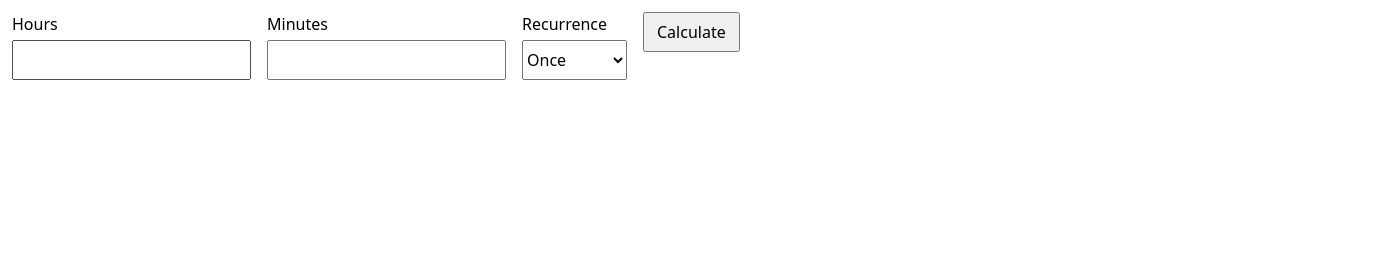
Test case: DurationCalculator › handles hours and minutes together
The image size is (1378, 280).
Step 1. Clear the field labelled "Hours" → x=132, y=60, box [12, 40, 251, 80]
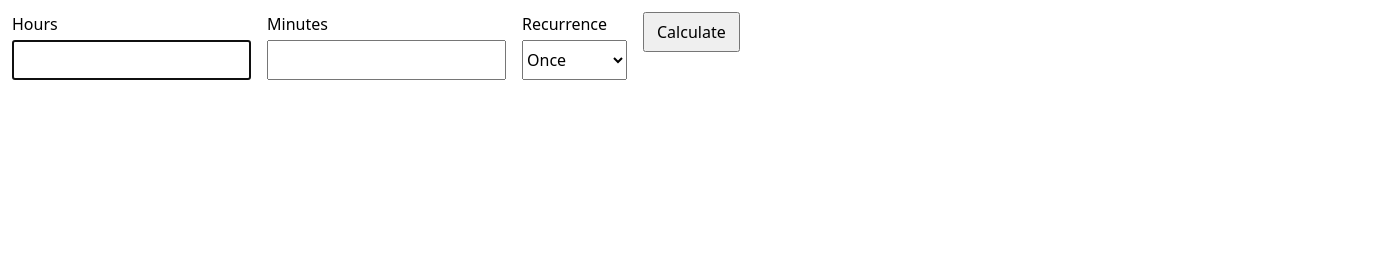
Step 2. Clear the field labelled "Minutes" → x=386, y=60, box [267, 40, 506, 80]
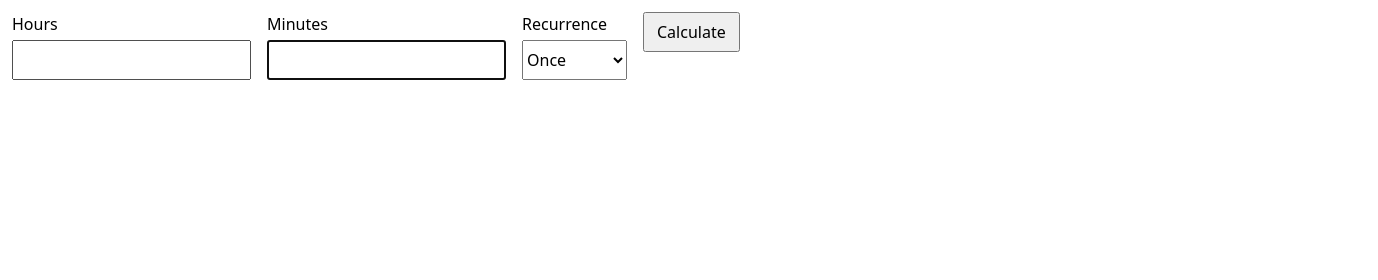
Step 3. Type "1" into the field labelled "Hours" → x=132, y=60, box [12, 40, 251, 80]
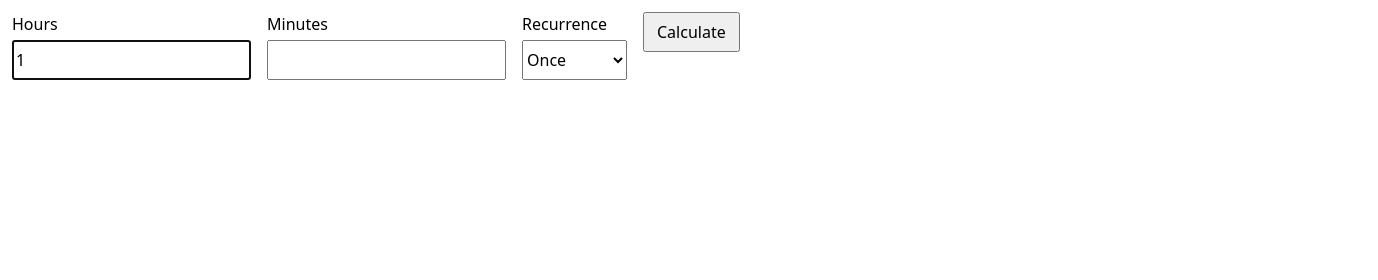
Step 4. Type "30" into the field labelled "Minutes" → x=386, y=60, box [267, 40, 506, 80]
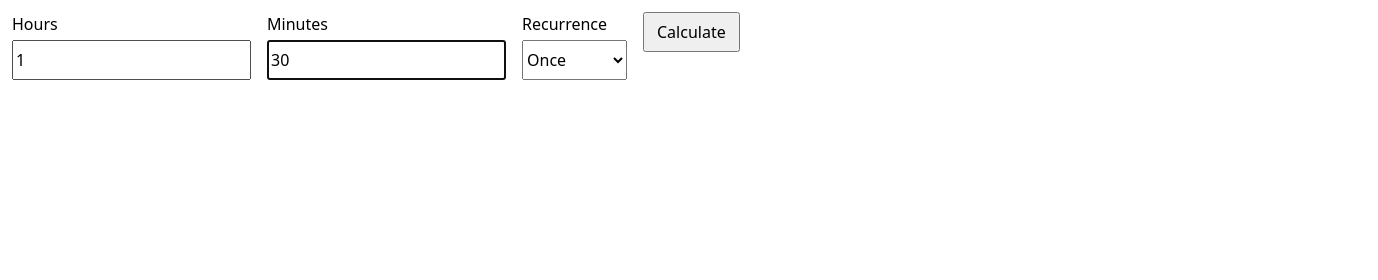
Step 5. Click the button "Calculate" → x=691, y=32, box [643, 12, 740, 52]
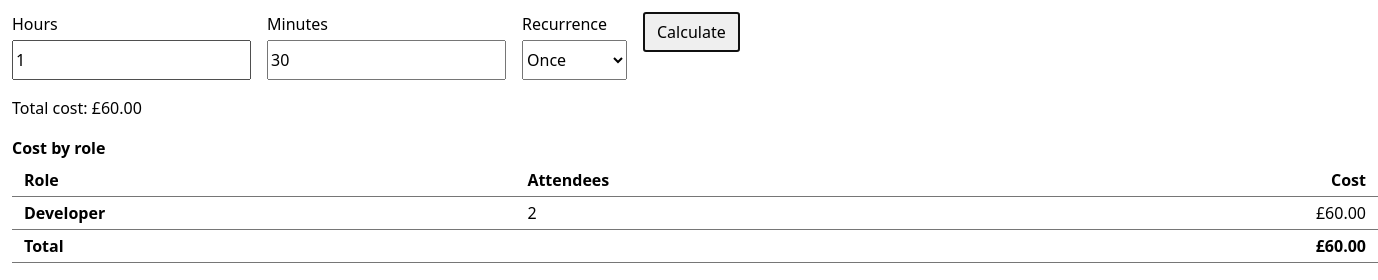
Check: the text "Total cost: £60.00" is shown, box [12, 97, 142, 119]
